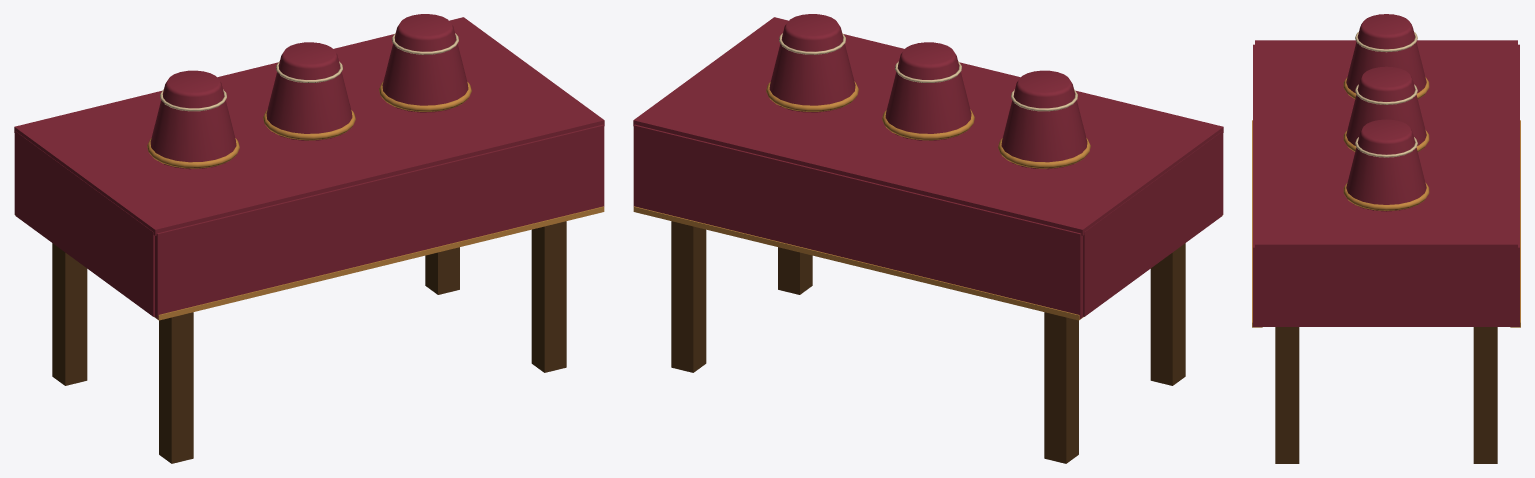
The model's file is mia-cups_table.glb.
3 views of the same model, side by side, from view 1: azimuth 30°, elevation 25°; view 2: azimuth 150°, elevation 25°; view 3: azimuth 270°, elevation 25° (orthographic). The views are drawn at different scales.
Parts seen in each view (by area): view 1: Body_velvet, Body_wood, Body_brass, Body_ivory; view 2: Body_velvet, Body_wood, Body_brass, Body_ivory; view 3: Body_velvet, Body_wood, Body_brass, Body_ivory.
Boxes of the visible parts, x1,y1,x2,y2 form: Body_velvet: (14,14,604,318); Body_wood: (52,221,566,463); Body_brass: (15,81,604,320); Body_ivory: (160,33,458,111); Body_velvet: (633,14,1223,318); Body_wood: (671,221,1185,463); Body_brass: (633,81,1222,320); Body_ivory: (779,33,1077,111); Body_velvet: (1253,14,1519,326); Body_wood: (1275,327,1497,463); Body_brass: (1252,77,1520,327); Body_ivory: (1355,32,1417,157).
Bounding box in the file's own units: 1.55 × 1.05 × 0.862.
